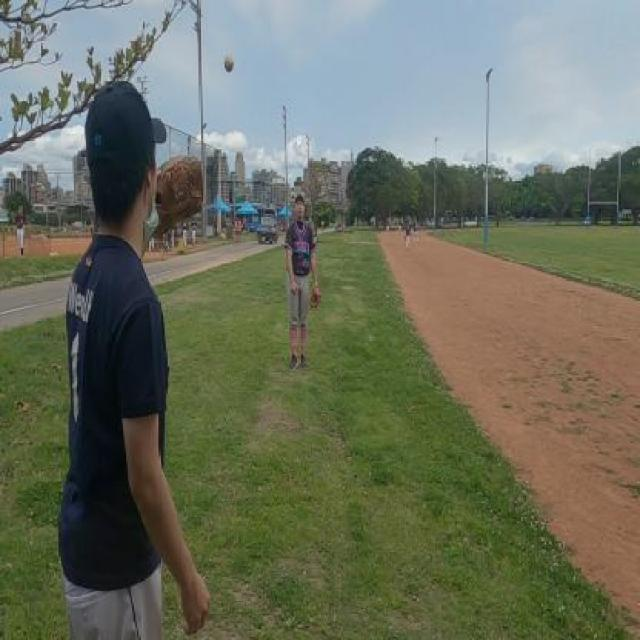baseball: (223, 53, 234, 73)
